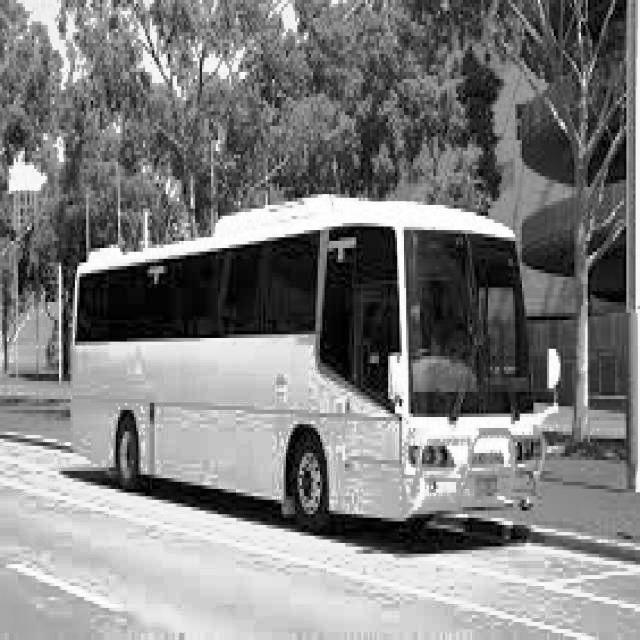Bus: (56, 163, 582, 598)
